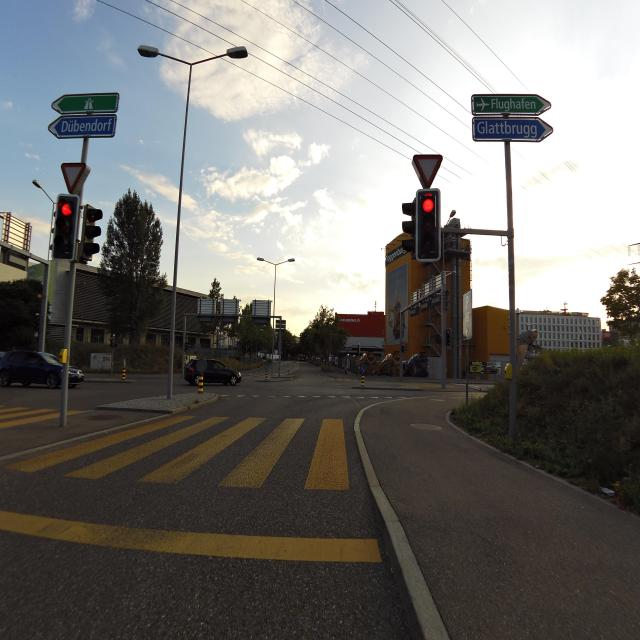Good: (406, 418, 444, 435), (85, 411, 123, 423)
